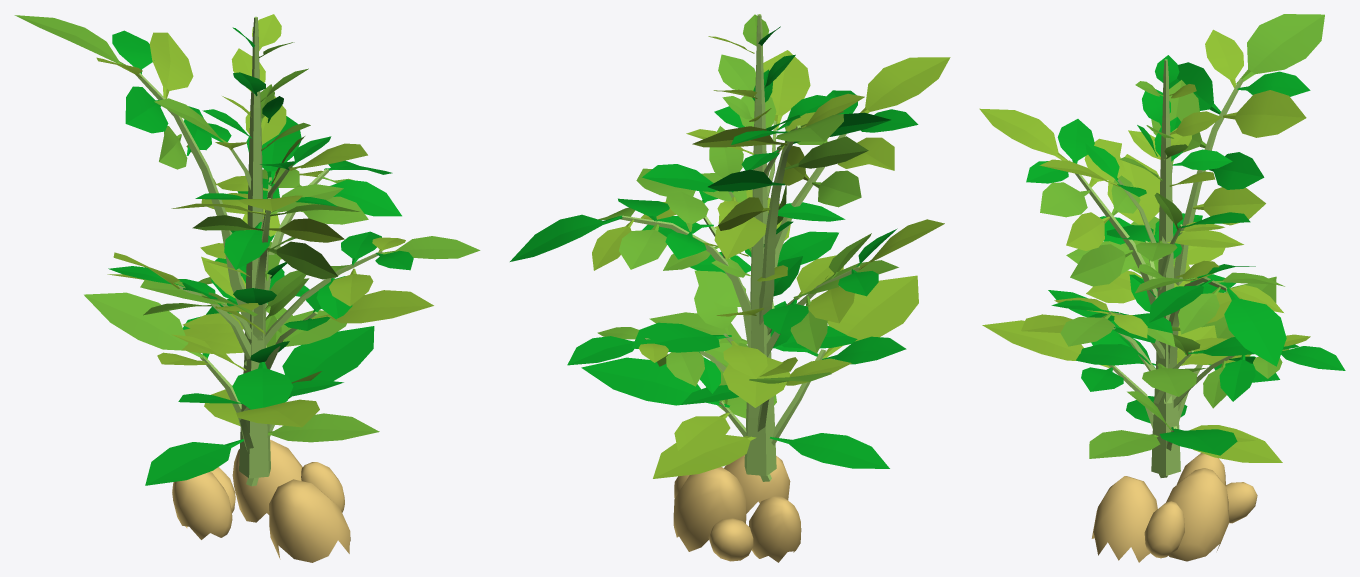
The model's file is mesh_stage4bush01.fbx.
3 views of the same model, side by side, from view 1: azimuth 30°, elevation 25°; view 2: azimuth 150°, elevation 25°; view 3: azimuth 270°, elevation 25° (orthographic). The views are drawn at different scales.
Parts seen in each view (by area): view 1: mesh_stage4bush01; view 2: mesh_stage4bush01; view 3: mesh_stage4bush01.
Boxes of the visible parts, box(x1,y1,x2,y2) form: mesh_stage4bush01: box(14, 14, 480, 562); mesh_stage4bush01: box(510, 14, 950, 562); mesh_stage4bush01: box(979, 14, 1345, 562).
Bounding box in the file's own units: 0.9197 × 1.32 × 0.9178.
